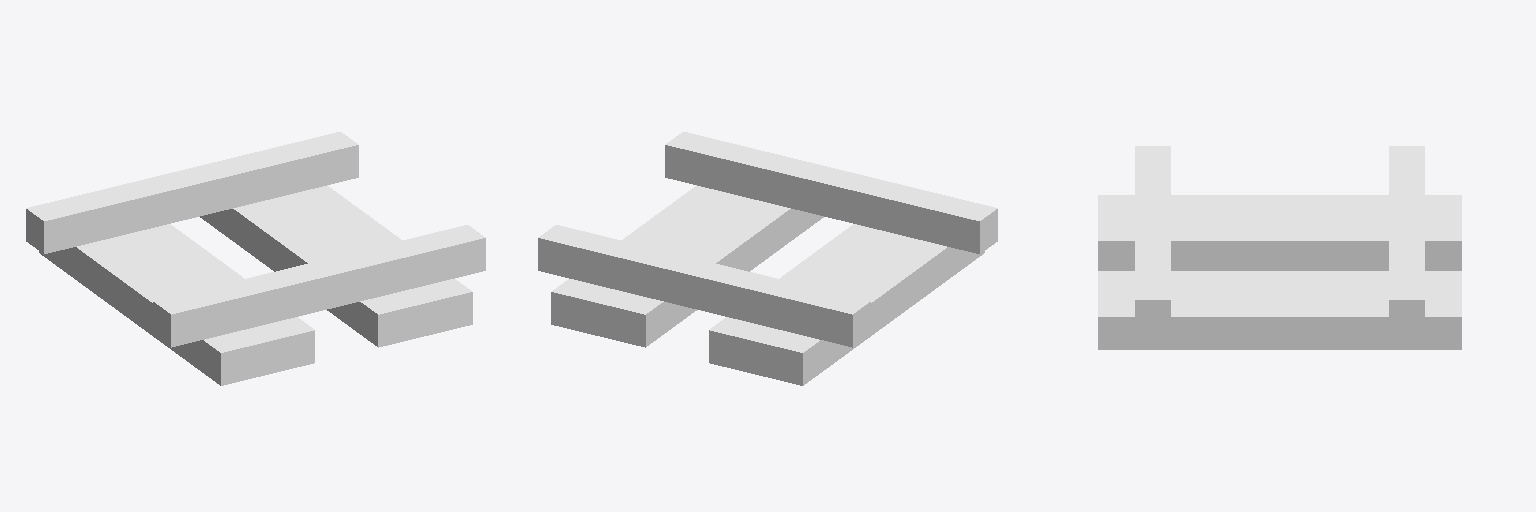
The model's file is railway_01.obj.
The picture shows the model from 3 angles: view 1: azimuth 30°, elevation 25°; view 2: azimuth 150°, elevation 25°; view 3: azimuth 270°, elevation 25°; orthographic projection.
Visible parts, largest first — view 1: object 1; view 2: object 1; view 3: object 1.
Part boxes in pixels (bbox=[...]): object 1: bbox=[26, 132, 485, 385]; object 1: bbox=[538, 132, 997, 385]; object 1: bbox=[1098, 146, 1461, 349].
Bounding box in the file's own units: 1 × 0.2 × 1.